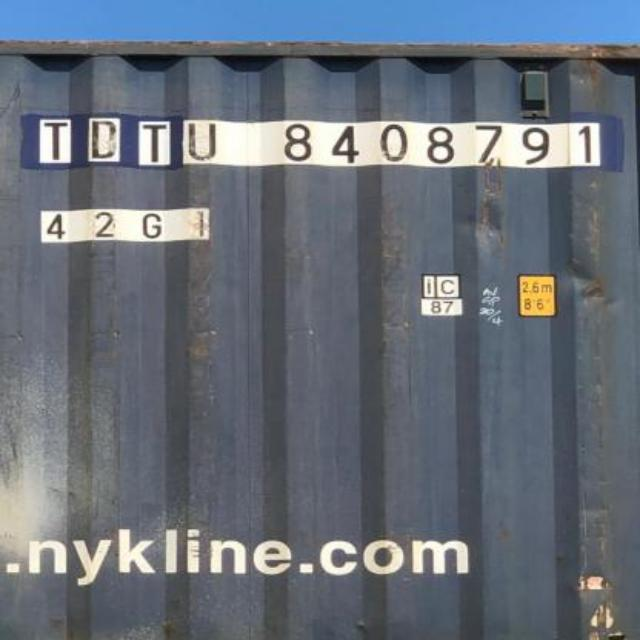0: (376, 119, 412, 163)
1: (566, 117, 600, 167)
4: (331, 122, 363, 166)
7: (471, 118, 501, 164)
8: (270, 119, 318, 163), (422, 122, 458, 166)
9: (518, 122, 554, 168)
D: (84, 112, 118, 164)
T: (34, 115, 76, 161), (140, 116, 168, 166)
U: (189, 117, 221, 161)
